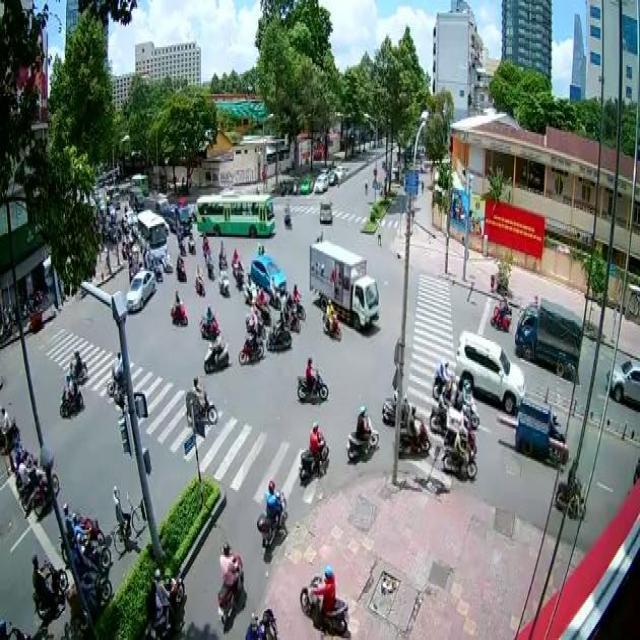bicycle: (111, 481, 145, 553)
bus: (196, 192, 273, 233), (137, 208, 168, 258)
car: (455, 328, 523, 410), (396, 403, 430, 458), (441, 429, 476, 479), (606, 356, 640, 407), (249, 253, 285, 297), (296, 356, 328, 403), (122, 268, 156, 312), (15, 454, 39, 512), (202, 326, 230, 372), (265, 310, 292, 354), (236, 326, 262, 364), (197, 300, 220, 340), (105, 345, 123, 396), (320, 296, 340, 340), (244, 298, 264, 338), (289, 280, 306, 320), (169, 288, 187, 324), (242, 270, 256, 306), (268, 273, 280, 311), (194, 262, 205, 297), (218, 260, 228, 296), (319, 197, 332, 224), (204, 246, 214, 280), (174, 252, 186, 280), (216, 237, 226, 267), (230, 246, 238, 276)
motorcycle: (297, 562, 348, 635), (143, 567, 185, 640), (30, 552, 67, 620), (215, 542, 243, 626), (255, 479, 287, 548), (297, 418, 328, 486), (344, 401, 378, 463), (183, 374, 216, 425), (58, 370, 83, 420), (0, 403, 18, 452), (66, 347, 86, 382)
truck: (307, 238, 379, 332), (513, 291, 580, 380)
